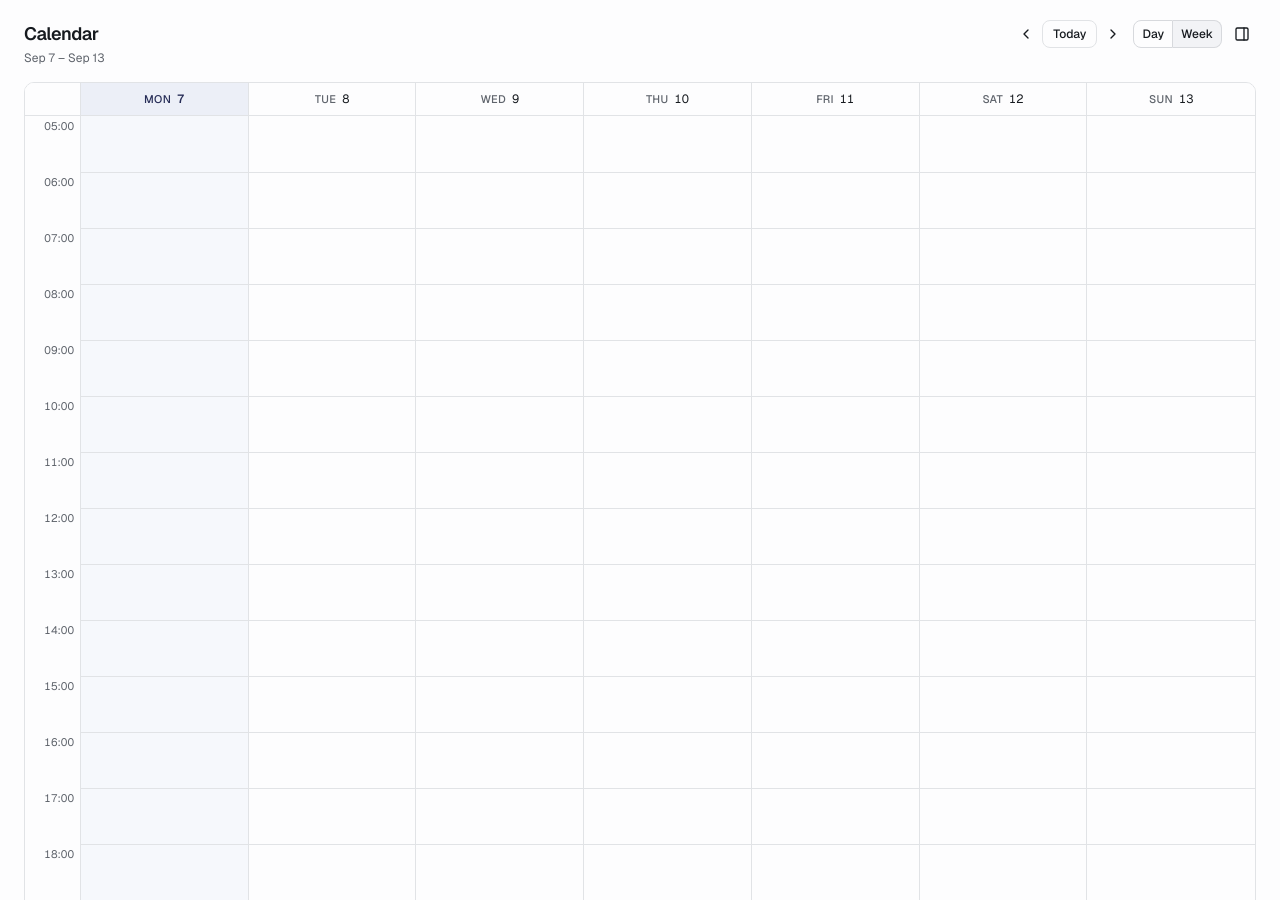
the Plan panel below lg › opens the plan as a sheet from the header toggle, closed by default
The image size is (1280, 900).
Click the button named "Show plan panel" at [1242, 34], box [1228,20,1256,48]
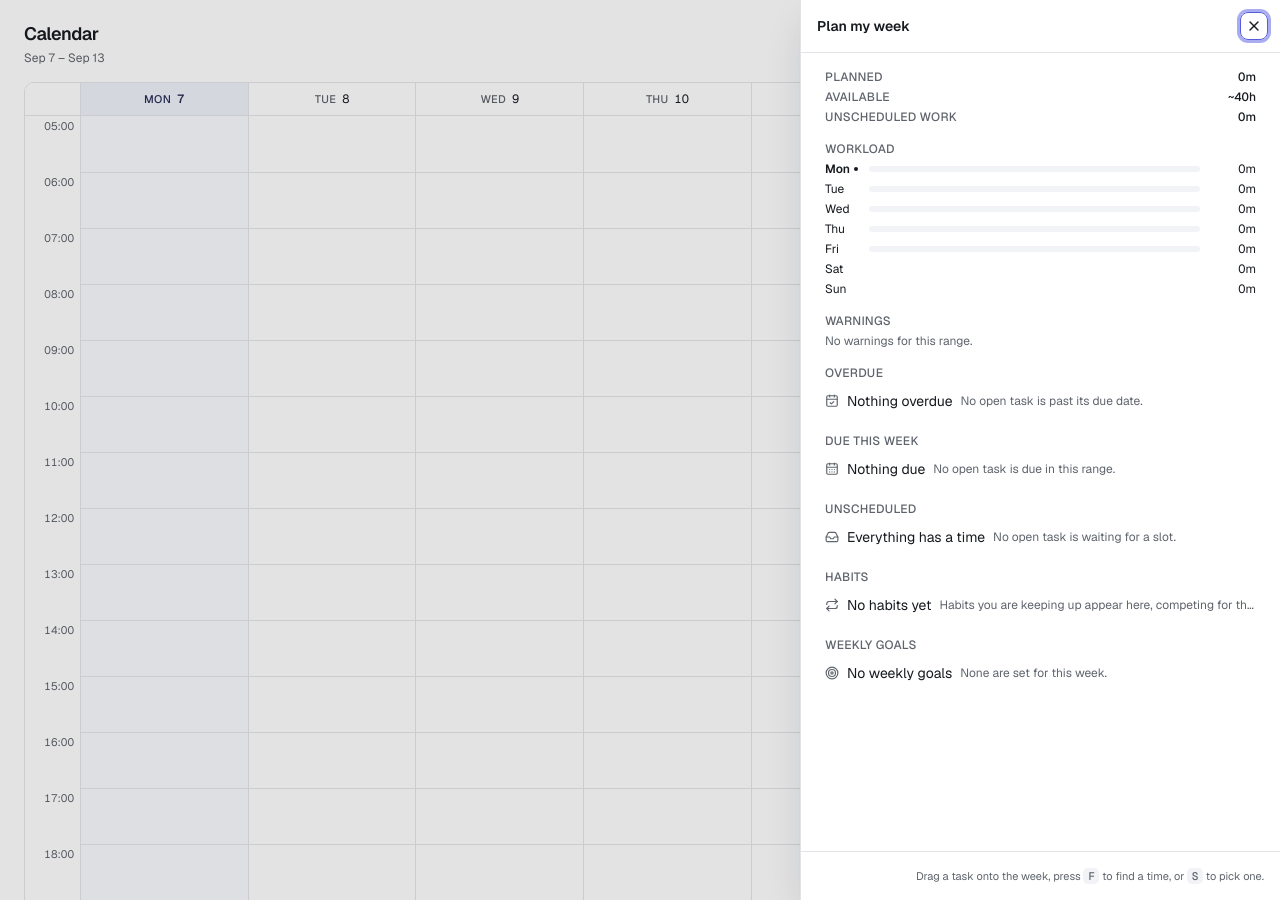
expect the dialog "Plan my week" is shown: met, box [800,0,1279,899]
expect the button named "Show plan panel" in the row of "Today" is expanded: met, box [1228,20,1256,48]
